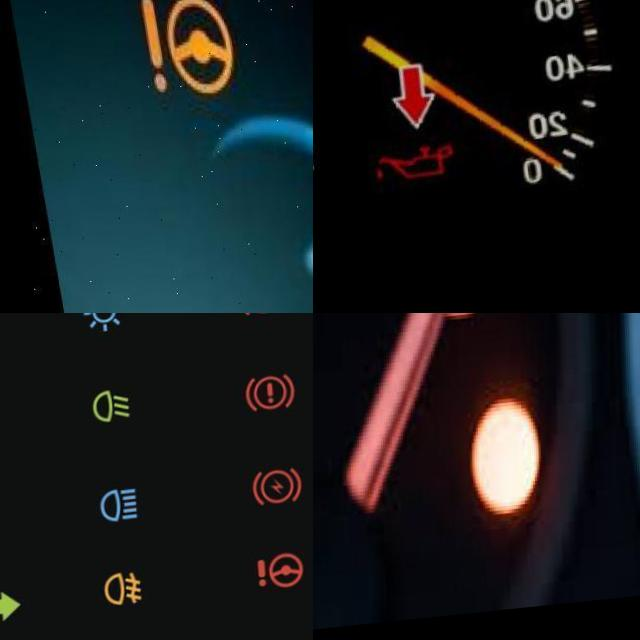Electronic Power Steering: (251, 558, 303, 600)
Electronic Power Steering Warning: (140, 0, 237, 109)
